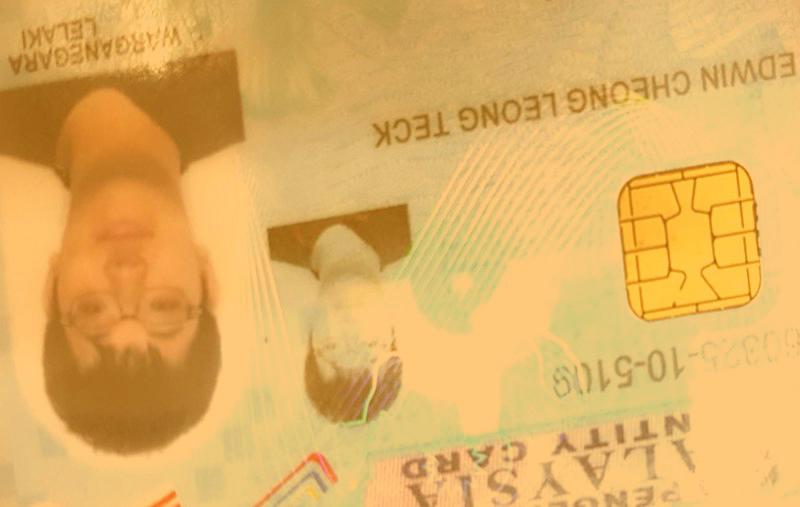hologram: (420, 147, 594, 288)
